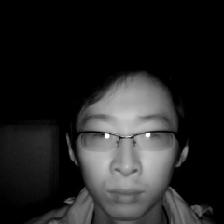normal: (56, 57, 194, 218)
